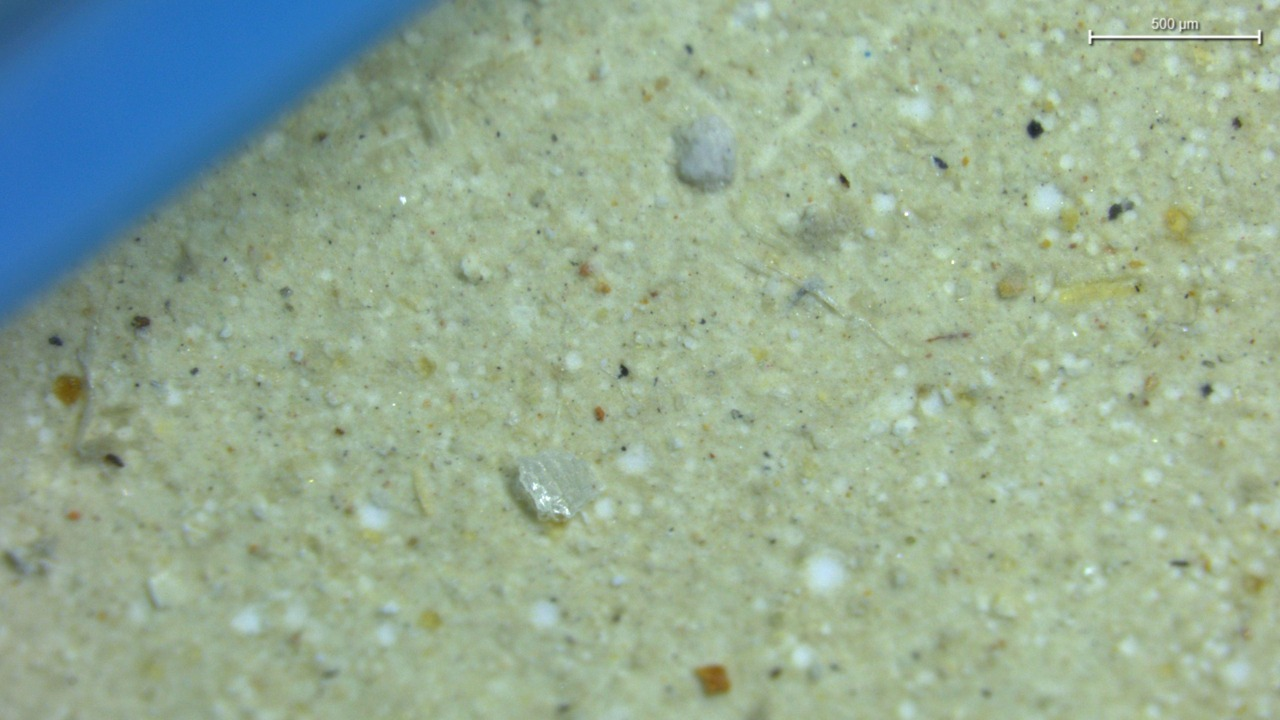microplastic_fragment: (517, 451, 599, 522), (673, 115, 736, 191)
